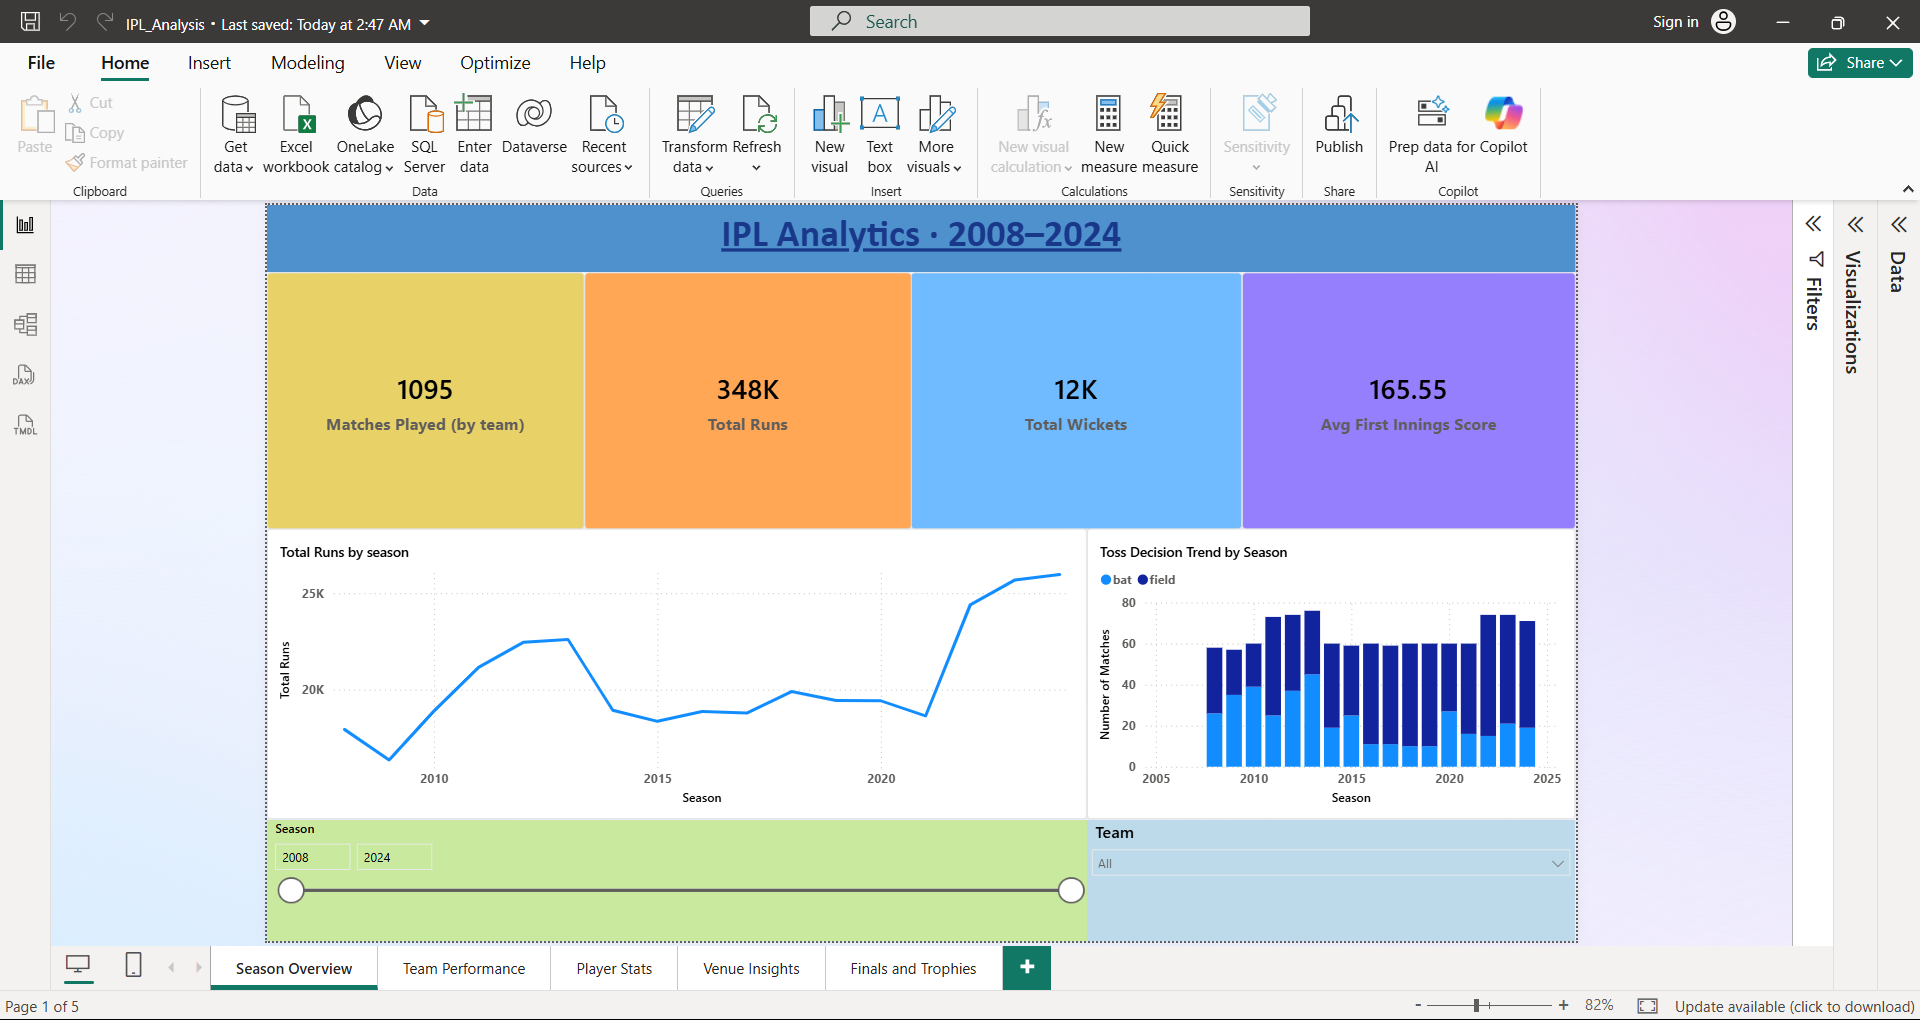

Layout of this report page (visuals, bound fields, positions):
{"tool":"powerbi","page":{"name":"Season Overview","canvas":[1280,720],"ordinal":0},"visuals":[{"type":"card","fields":{"Values":["Measure.Matches Played (by team)"]},"box":[0,65.8,310.5,251.3],"z":0},{"type":"card","fields":{"Values":["Measure.Total Wickets"]},"box":[630.3,65.8,323.7,251.3],"z":1000},{"type":"card","fields":{"Values":["Measure.Avg First Innings Score"]},"box":[953.9,65.8,326.3,251.3],"z":2000},{"type":"card","fields":{"Values":["Measure.Total Runs"]},"box":[310.5,65.8,319.7,251.3],"z":3000},{"type":"lineChart","fields":{"Category":["dim_matches.season"],"Y":["Measure.Total Runs"]},"box":[0,317.1,802.6,284.2],"z":4000},{"type":"columnChart","title":"Toss Decision Trend by Season","fields":{"Category":["dim_matches.season"],"Series":["dim_matches.toss_decision"],"Y":["Count(dim_matches.match_id)"]},"box":[802.6,317.1,477.6,284.2],"z":5000},{"type":"slicer","fields":{"Values":["dim_matches.season"]},"box":[0,601,802.7,119.4],"z":6000},{"type":"slicer","fields":{"Values":["dim_team.Team"]},"box":[802.6,601.3,477.6,118.4],"z":7000},{"type":"textbox","box":[0,0,1280.3,65.8],"z":8000}]}

Visuals, with their boxes on the page's 1280x720 design canvas (x1, y1, x2, y2). These are canvas units, not pixel positions in the 1920x1020 screenshot, which may show the page scaled, cropped or inside an application window:
card - Measure.Matches Played (by team): x1=0 y1=66 x2=310 y2=317
card - Measure.Total Wickets: x1=630 y1=66 x2=954 y2=317
card - Measure.Avg First Innings Score: x1=954 y1=66 x2=1280 y2=317
card - Measure.Total Runs: x1=310 y1=66 x2=630 y2=317
lineChart - dim_matches.season x Measure.Total Runs: x1=0 y1=317 x2=803 y2=601
"Toss Decision Trend by Season" columnChart: x1=803 y1=317 x2=1280 y2=601
slicer - dim_matches.season: x1=0 y1=601 x2=803 y2=720
slicer - dim_team.Team: x1=803 y1=601 x2=1280 y2=720
textbox: x1=0 y1=0 x2=1280 y2=66
